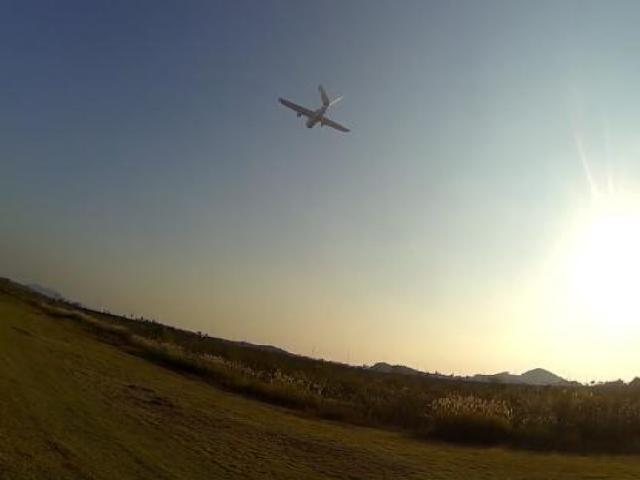uav: (272, 68, 362, 152)
